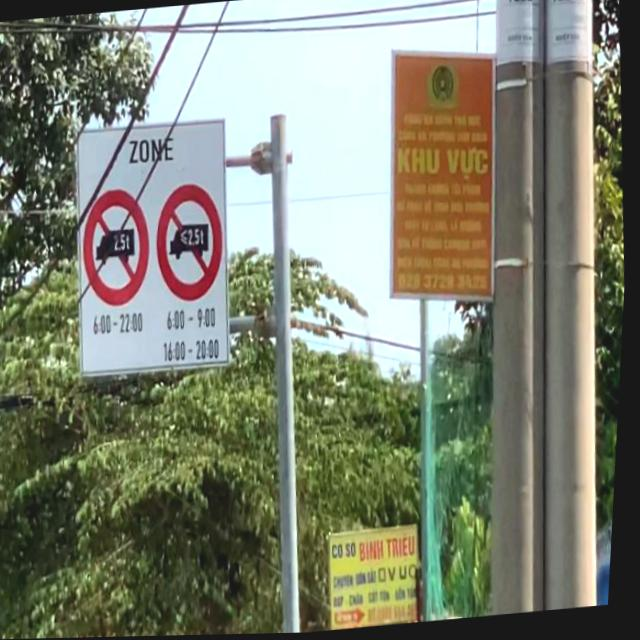Cam xe tai tren 2_5: (75, 184, 158, 310), (151, 179, 231, 305)
